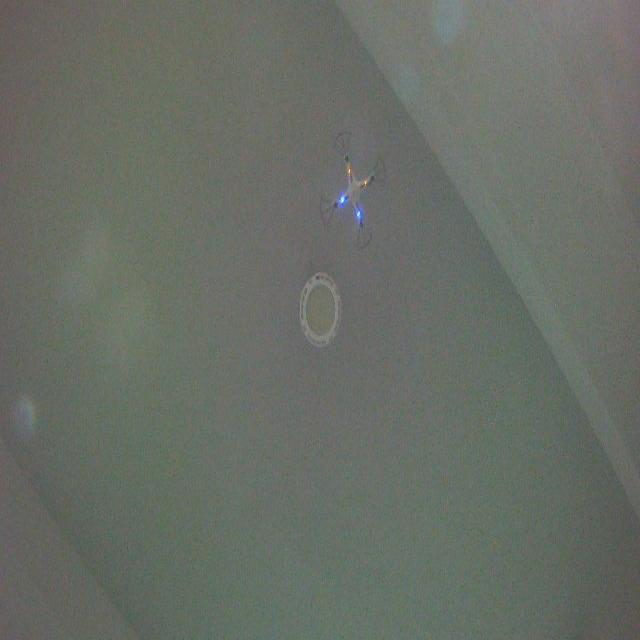drone: (317, 129, 389, 254)
